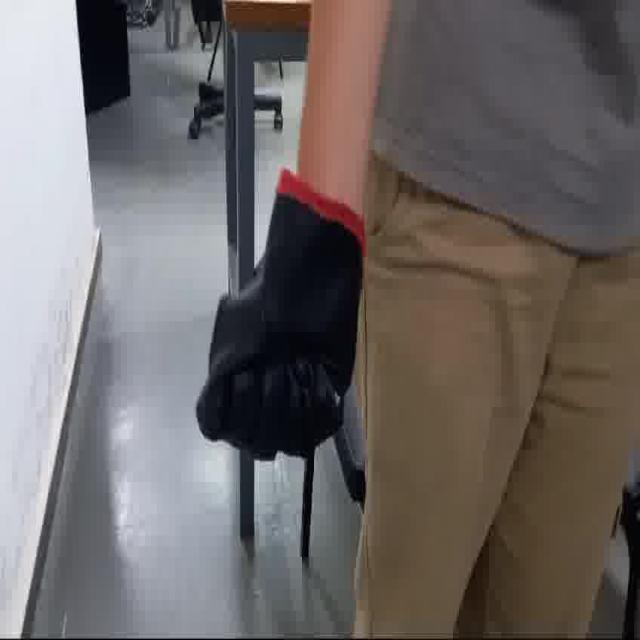Gloves: (197, 170, 367, 464)
